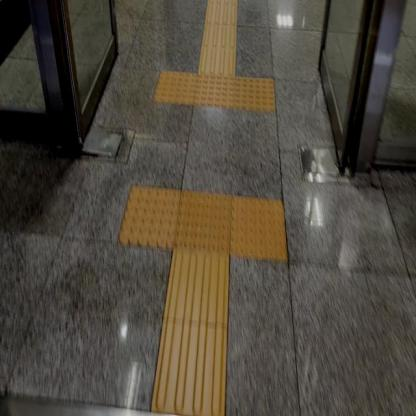podotacti: (117, 186, 289, 264), (150, 258, 233, 416), (159, 71, 276, 113), (199, 0, 240, 71)
